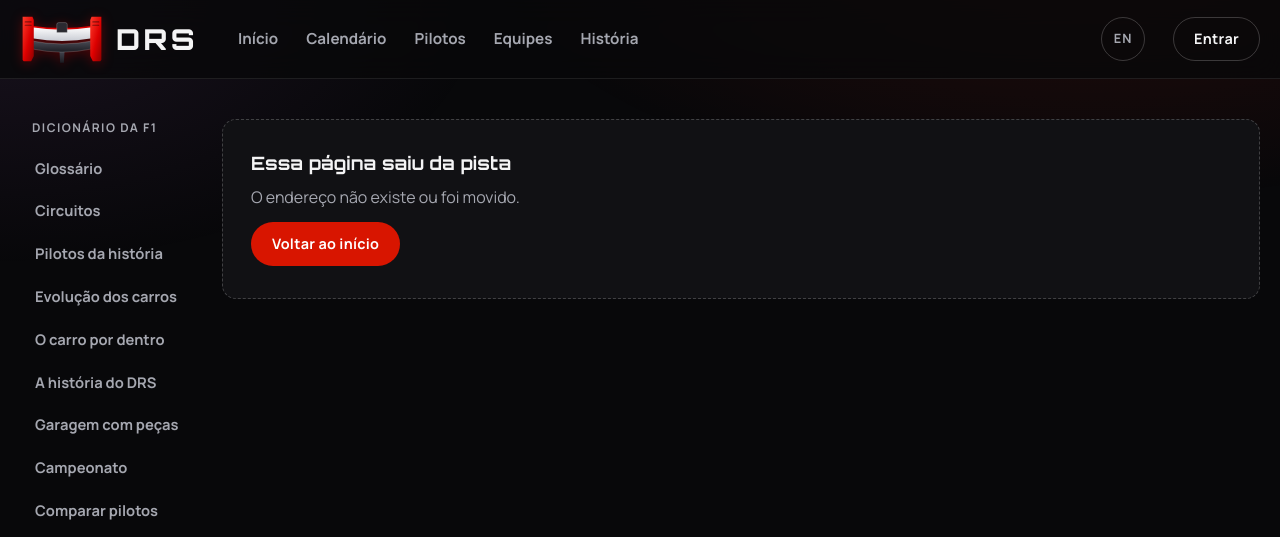
Test: Idioma do site › traduz a página aberta, não só o cabeçalho
Expected: the heading "Essa página saiu da pista" is shown, [251, 152, 511, 173]
Click the button with aria-label "Read in English" at (1123, 39), box [1101, 17, 1145, 61]
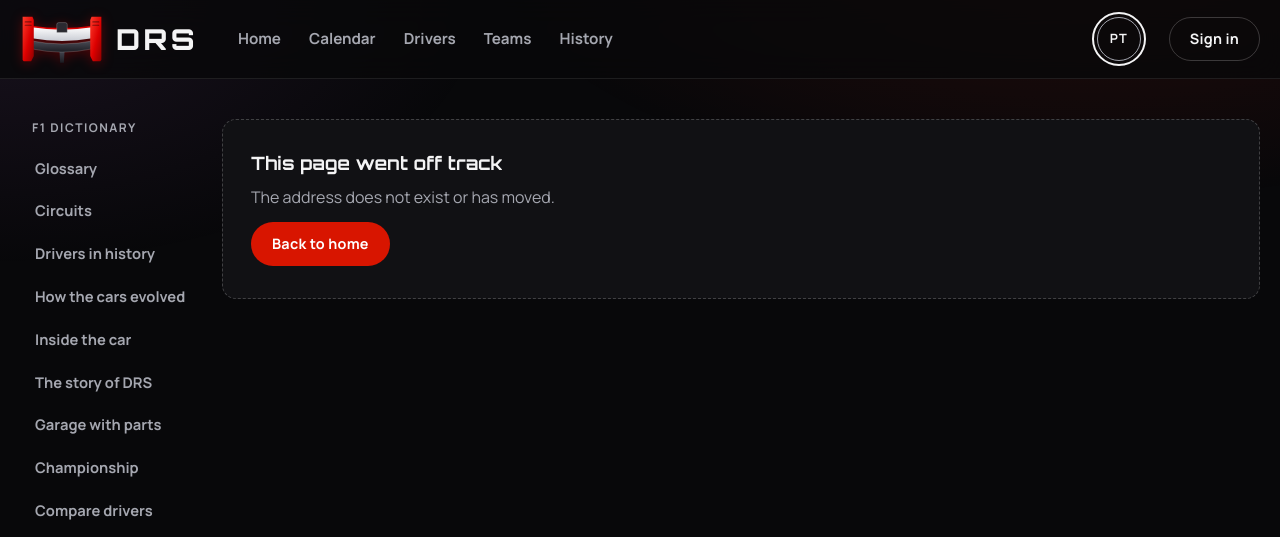
Result: the heading "This page went off track" is shown at [251, 152, 502, 173]
Result: the link "Back to home" is shown at [251, 222, 390, 266]
